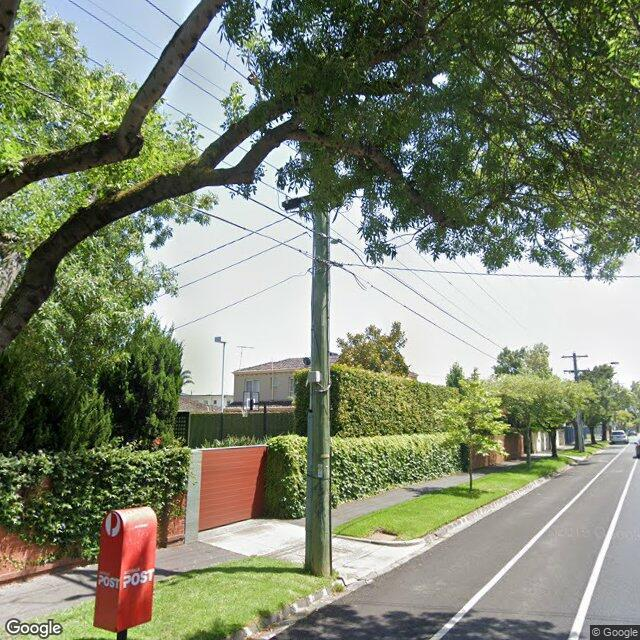crossarm: (282, 175, 364, 210), (564, 369, 590, 372), (561, 356, 589, 358)
timber-pole: (306, 168, 332, 578), (573, 352, 578, 382)
